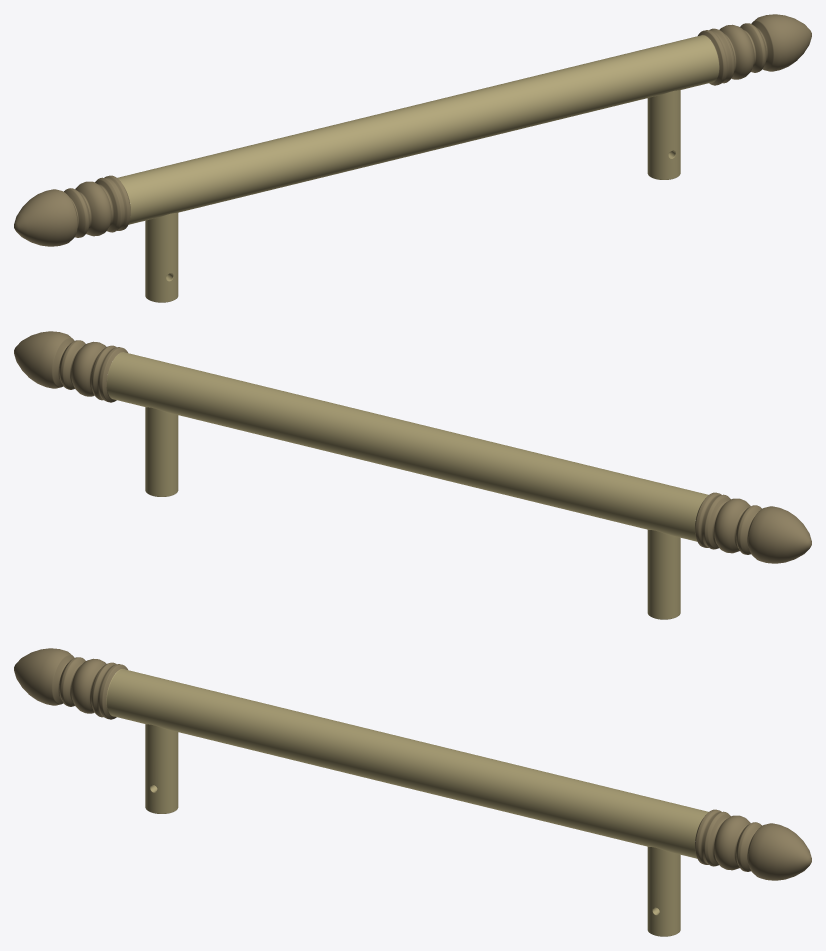
The model's file is door-handles-1704.glb.
3 views of the same model, one above another, from view 1: azimuth 30°, elevation 25°; view 2: azimuth 150°, elevation 25°; view 3: azimuth 330°, elevation 25° (orthographic).
Visible parts, largest first — view 1: Bar, Post 1, Post -1; view 2: Bar, Post 1, Post -1; view 3: Bar, Post 1, Post -1.
Part boxes in pixels (x1=…): Bar: x1=14, y1=14, x2=811, y2=246; Post 1: x1=647, y1=90, x2=680, y2=179; Post -1: x1=145, y1=213, x2=178, y2=302; Bar: x1=14, y1=331, x2=811, y2=563; Post 1: x1=145, y1=407, x2=178, y2=496; Post -1: x1=647, y1=530, x2=680, y2=619; Bar: x1=14, y1=648, x2=811, y2=880; Post 1: x1=647, y1=847, x2=680, y2=936; Post -1: x1=145, y1=724, x2=178, y2=813.
Bounding box in the file's own units: 0.305 × 0.0474 × 0.0188.
